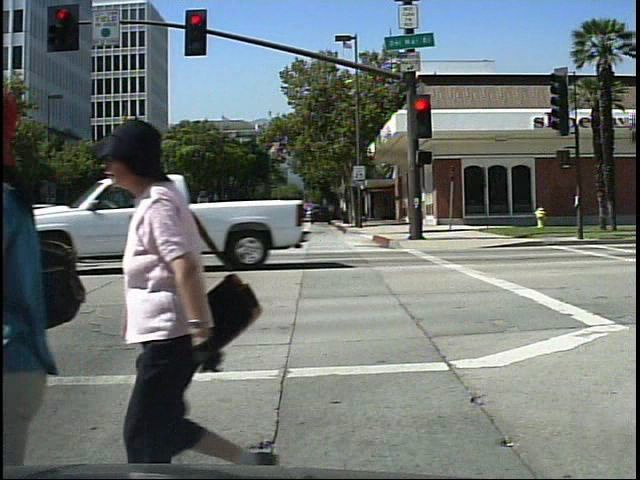person: (97, 108, 277, 470), (0, 83, 89, 470)
